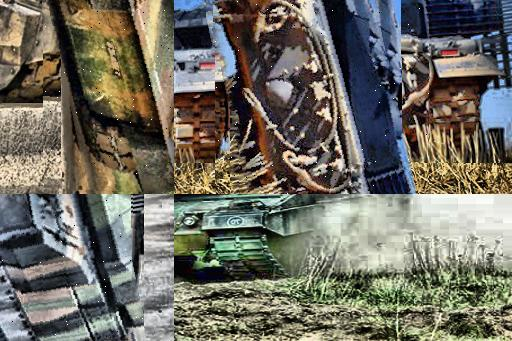tanks: (215, 1, 413, 195), (51, 1, 175, 194), (1, 195, 145, 341), (175, 195, 364, 279), (388, 195, 394, 207)
